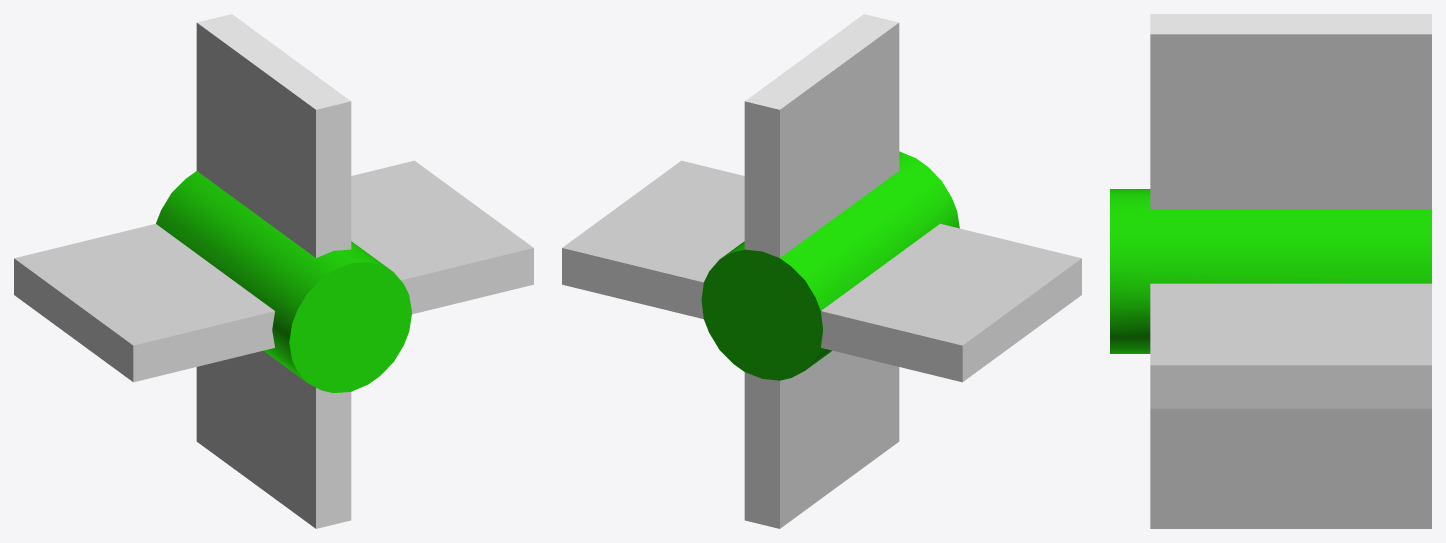
File: D_FBX_04_Propella.fbx
3 views of the same model, side by side, from view 1: azimuth 30°, elevation 25°; view 2: azimuth 150°, elevation 25°; view 3: azimuth 270°, elevation 25° (orthographic). The views are drawn at different scales.
Parts seen in each view (by area): view 1: D_FBX_04_Propella; view 2: D_FBX_04_Propella; view 3: D_FBX_04_Propella.
Part boxes in pixels (x1=…): D_FBX_04_Propella: x1=14, y1=14, x2=533, y2=528; D_FBX_04_Propella: x1=562, y1=14, x2=1081, y2=528; D_FBX_04_Propella: x1=1110, y1=14, x2=1431, y2=528.
Bounding box in the file's own units: 339 × 339 × 200.
